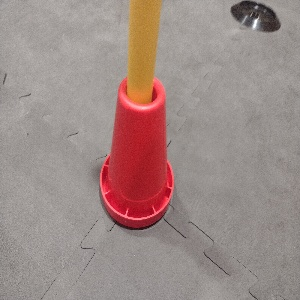Red_1: (98, 74, 174, 228)
